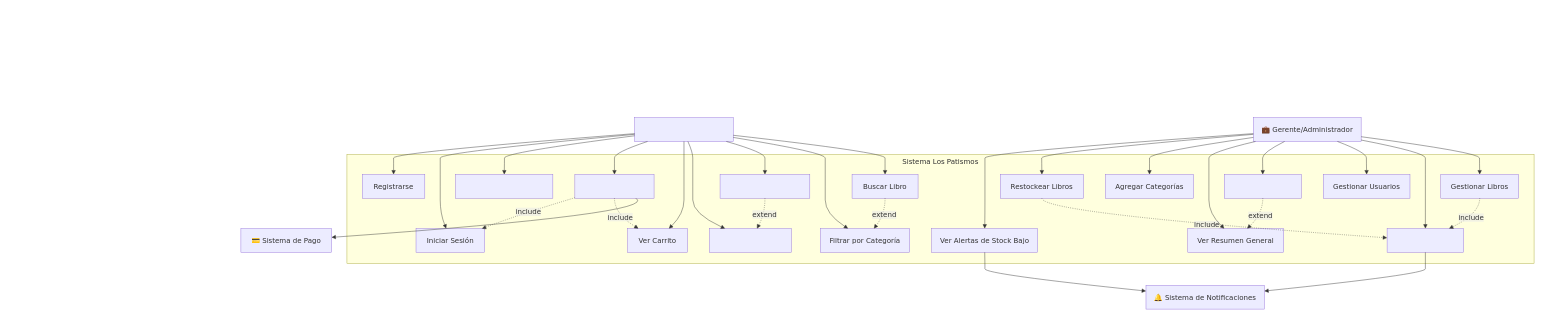
This 1542x317 diagram has some shape labels left out. The shapes that lost their labels are listed below. From the top down, each one's box as (x1, y1, x2, y2) in pixels, then its label:
(634, 117, 733, 141): 👤 Usuario/Comprador
(455, 174, 553, 198): Ver Recomendaciones
(574, 174, 654, 198): Realizar Compra
(720, 174, 810, 198): Ver Detalle del Libro
(1224, 174, 1301, 198): Ver Estadísticas
(709, 228, 791, 252): Agregar al Carrito
(1387, 228, 1464, 252): Gestionar Stock
